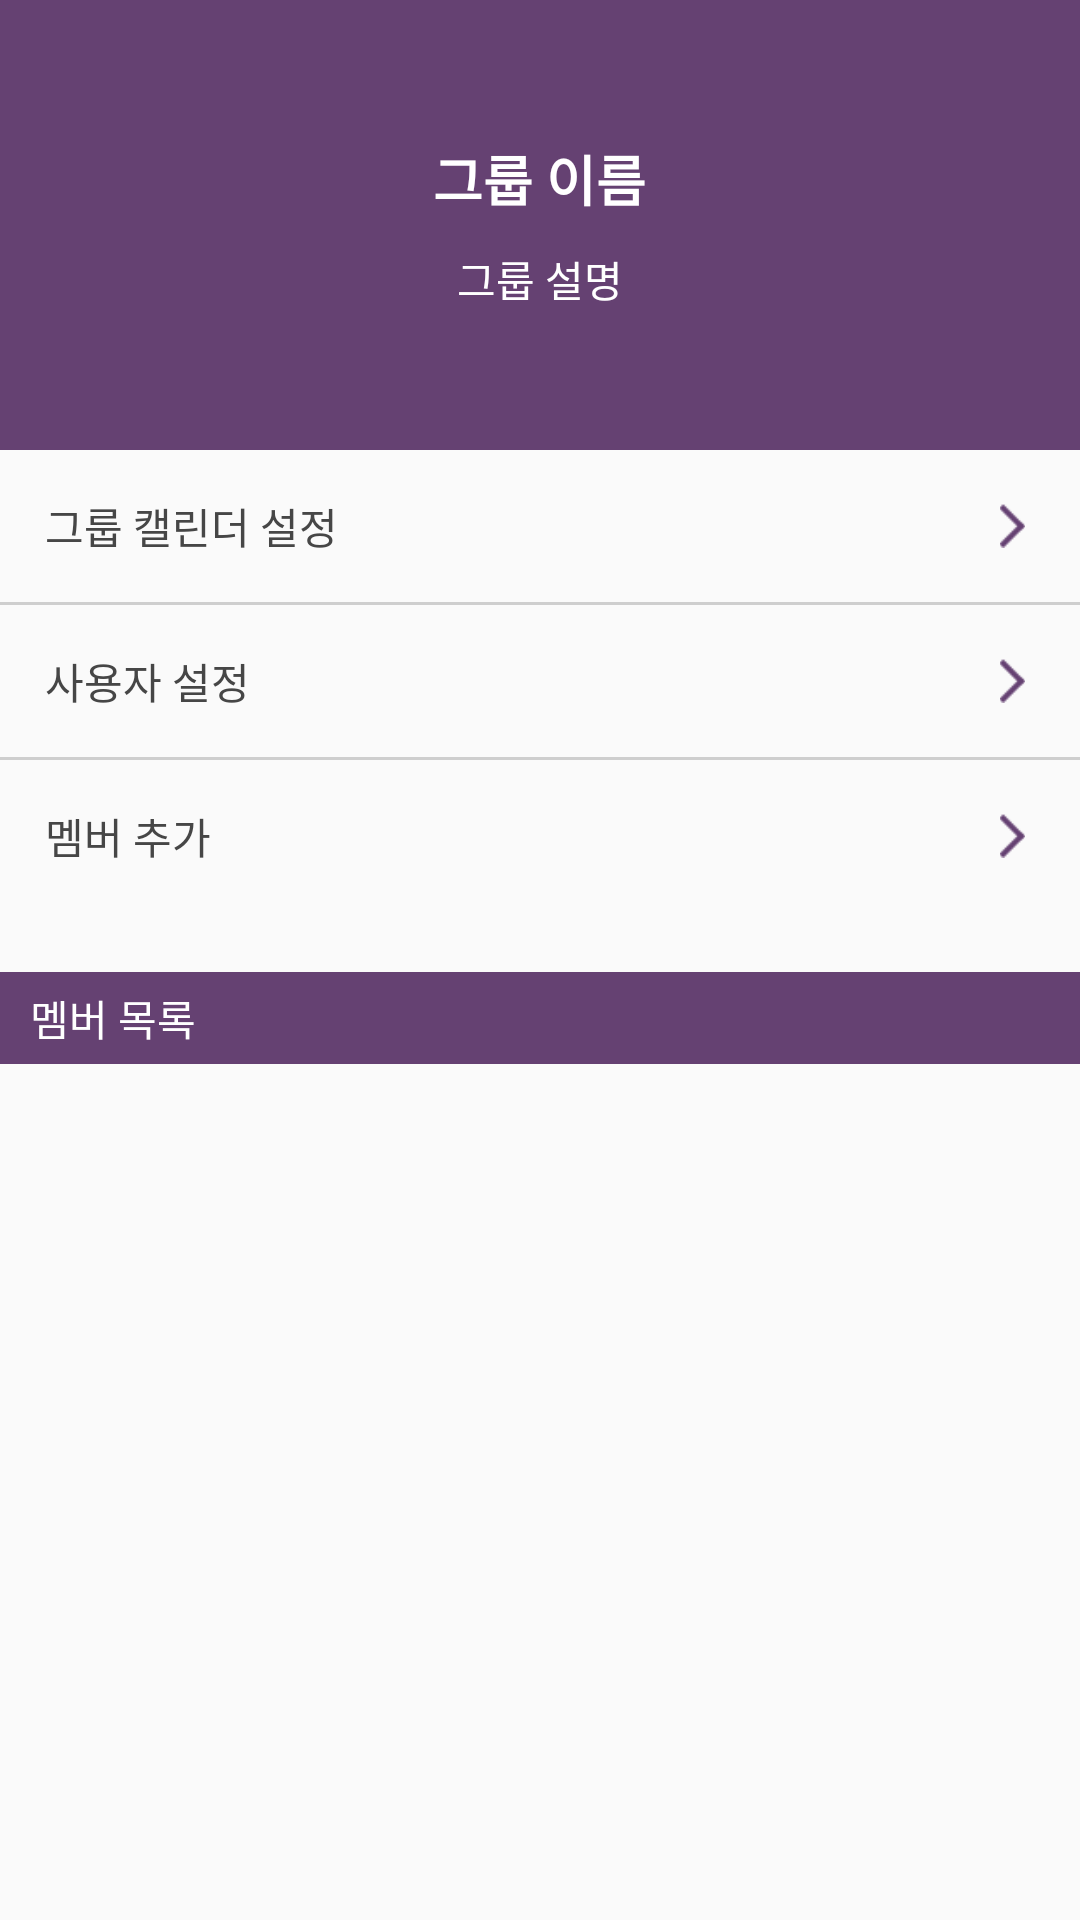

Icons on this 1080 × 1920 Android screen, each with the point to tap as [x,y]:
next: [1012,526], [1012,681], [1012,836]
